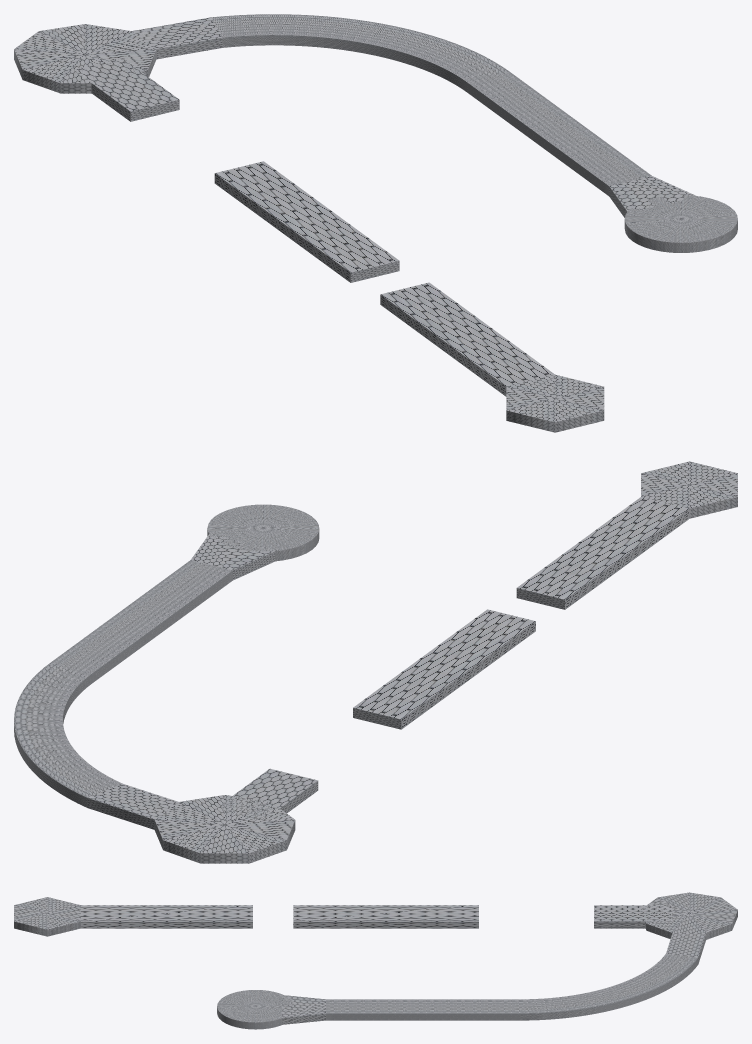
Rendered from Level1.FBX.
The picture shows the model from 3 angles, top to bottom: view 1: azimuth 30°, elevation 25°; view 2: azimuth 150°, elevation 25°; view 3: azimuth 270°, elevation 25°; orthographic projection. The views are drawn at different scales.
Parts seen in each view (by area): view 1: Zylinder_1; view 2: Zylinder_1; view 3: Zylinder_1.
Boxes of the visible parts, x1=… form: Zylinder_1: x1=14, y1=14, x2=737, y2=432; Zylinder_1: x1=14, y1=461, x2=737, y2=863; Zylinder_1: x1=14, y1=892, x2=737, y2=1029.
Size of the model in its own units: 266 by 626 by 6.68.
